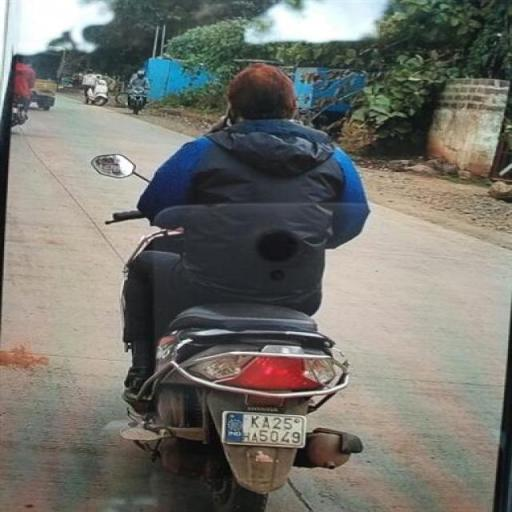numberplate: (217, 412, 316, 447)
using mobile: (216, 97, 240, 135)
